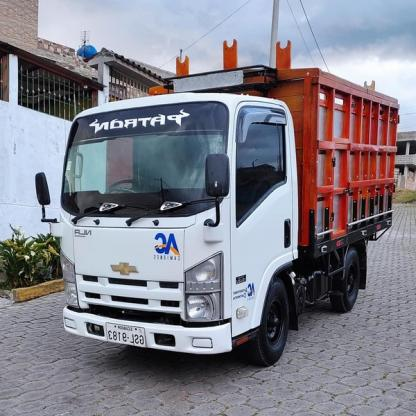Placa: (102, 321, 147, 351)
